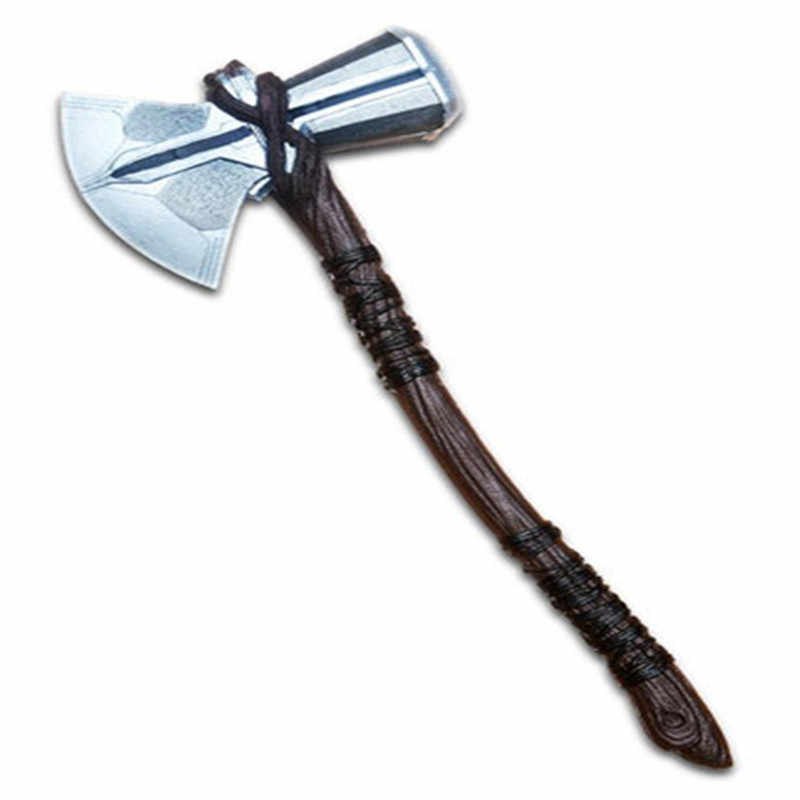THOR Hammer: (45, 54, 670, 800), (127, 108, 239, 167)
